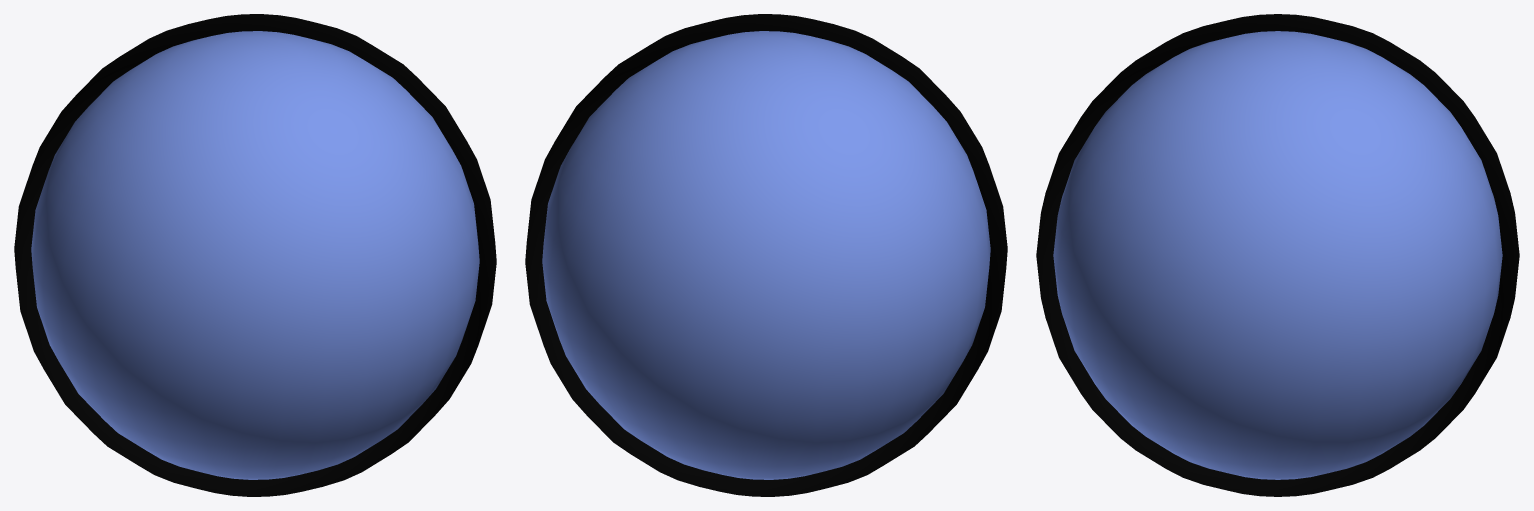
File: resurs_new.fbx
3 renders of one model, left to right at view 1: azimuth 30°, elevation 25°; view 2: azimuth 150°, elevation 25°; view 3: azimuth 270°, elevation 25°, orthographic.
Parts seen in each view (by area): view 1: Sphere, Sphere.001; view 2: Sphere, Sphere.001; view 3: Sphere, Sphere.001.
Part boxes in pixels (left/top/right/bottom): Sphere: left=31, top=31, right=479, bottom=479; Sphere.001: left=14, top=14, right=496, bottom=496; Sphere: left=542, top=31, right=990, bottom=479; Sphere.001: left=525, top=14, right=1007, bottom=496; Sphere: left=1053, top=31, right=1502, bottom=479; Sphere.001: left=1036, top=14, right=1519, bottom=496.
Bounding box in the file's own units: 215 × 215 × 215.
